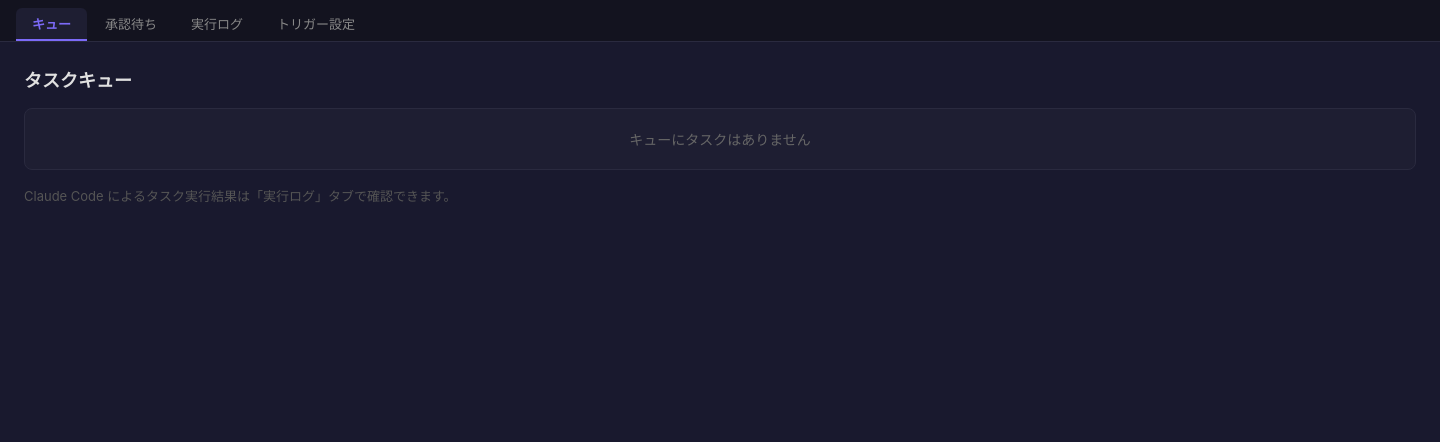
Scenario: AgentControlScreen › トリガー設定 タブに切り替えできる
Step 1. Click the button "トリガー設定" → {"x": 316, "y": 24}, box x1=261 y1=8 x2=371 y2=41
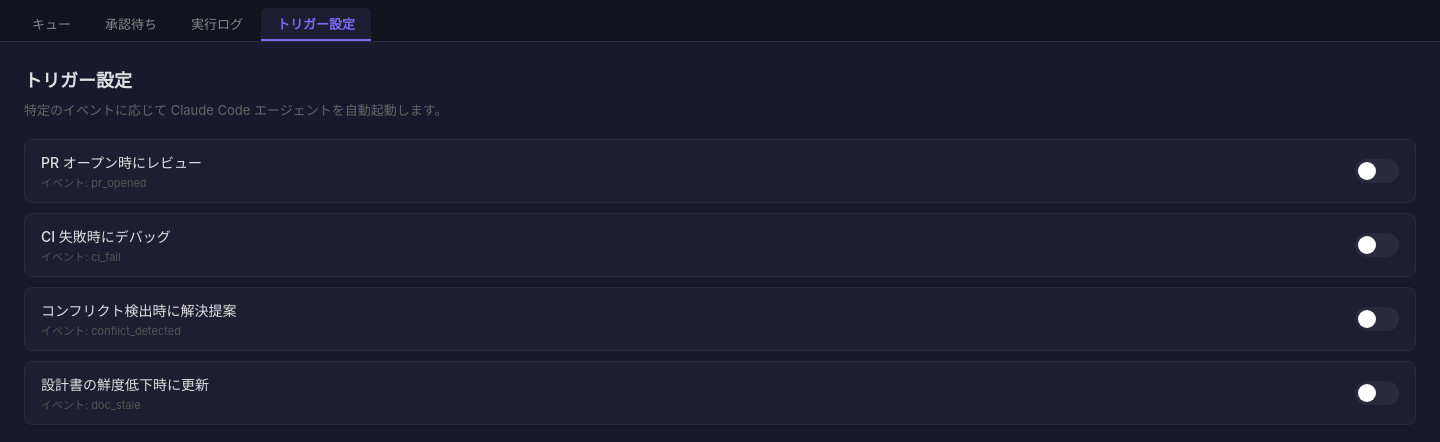
Now the text "PR オープン時にレビュー" is shown, box x1=41 y1=152 x2=202 y2=172
Now the text "CI 失敗時にデバッグ" is shown, box x1=41 y1=226 x2=171 y2=246
Now the text "コンフリクト検出時に解決提案" is shown, box x1=41 y1=300 x2=237 y2=320
